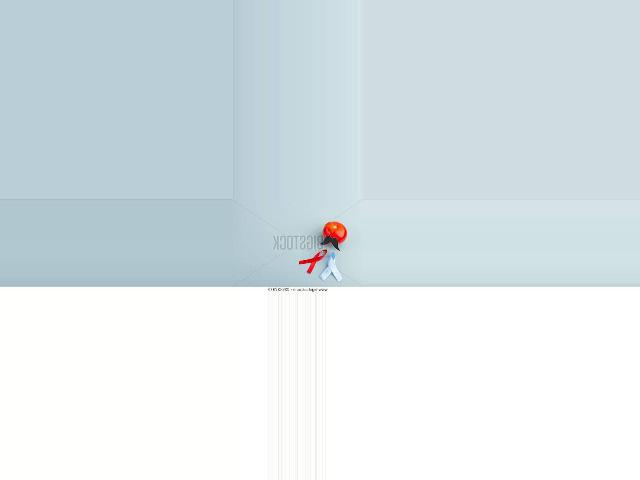tomato: (322, 221, 346, 244)
